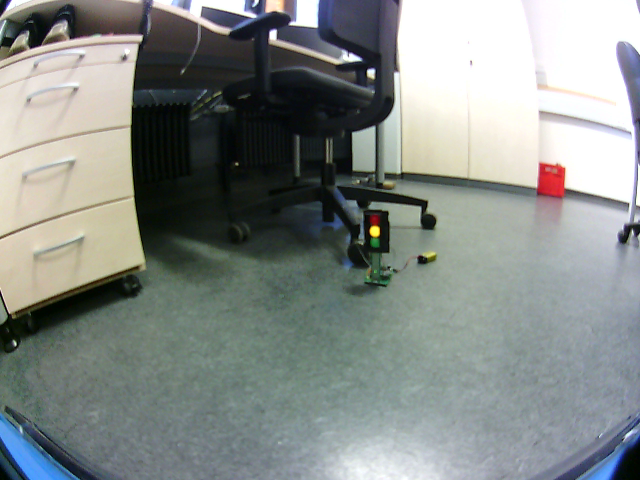yellow trafficlight: (366, 211, 383, 250)
